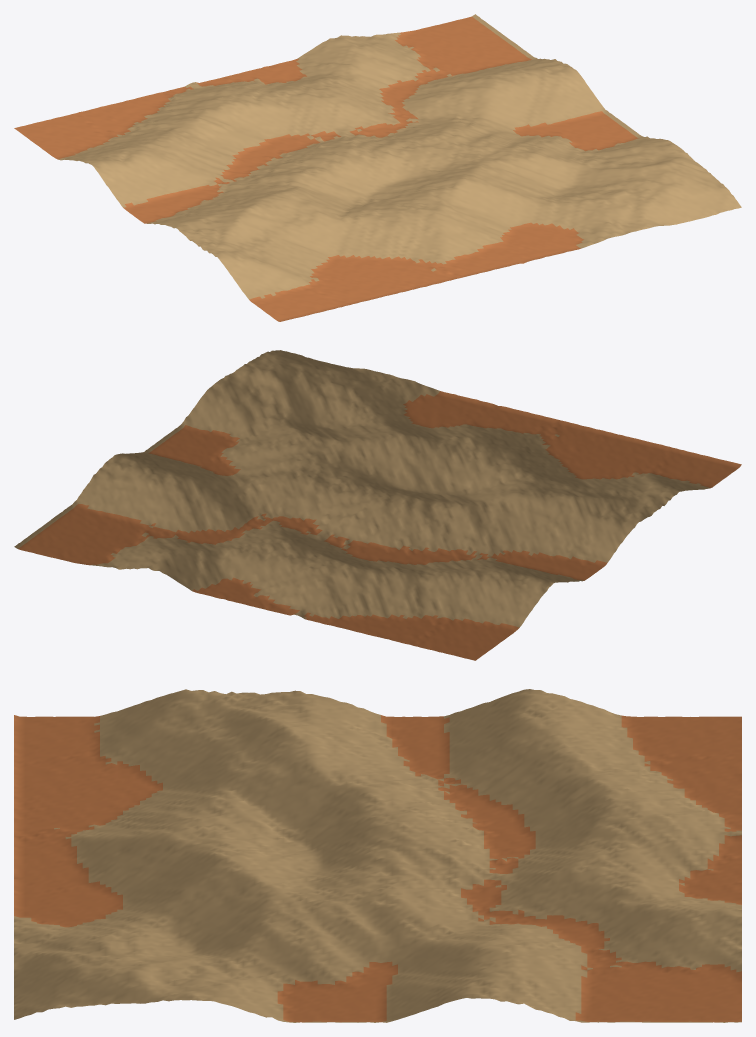
File: transverse_basic.obj
3 views of the same model, one above another, from view 1: azimuth 30°, elevation 25°; view 2: azimuth 150°, elevation 25°; view 3: azimuth 270°, elevation 25° (orthographic). The views are drawn at different scales.
Visible parts, largest first — view 1: Obj; view 2: Obj; view 3: Obj.
Part boxes in pixels (left/top/right/bottom): Obj: left=14, top=14, right=741, bottom=321; Obj: left=14, top=350, right=741, bottom=660; Obj: left=14, top=689, right=741, bottom=1022.
Bounding box in the file's own units: 128 × 6.82 × 128.
